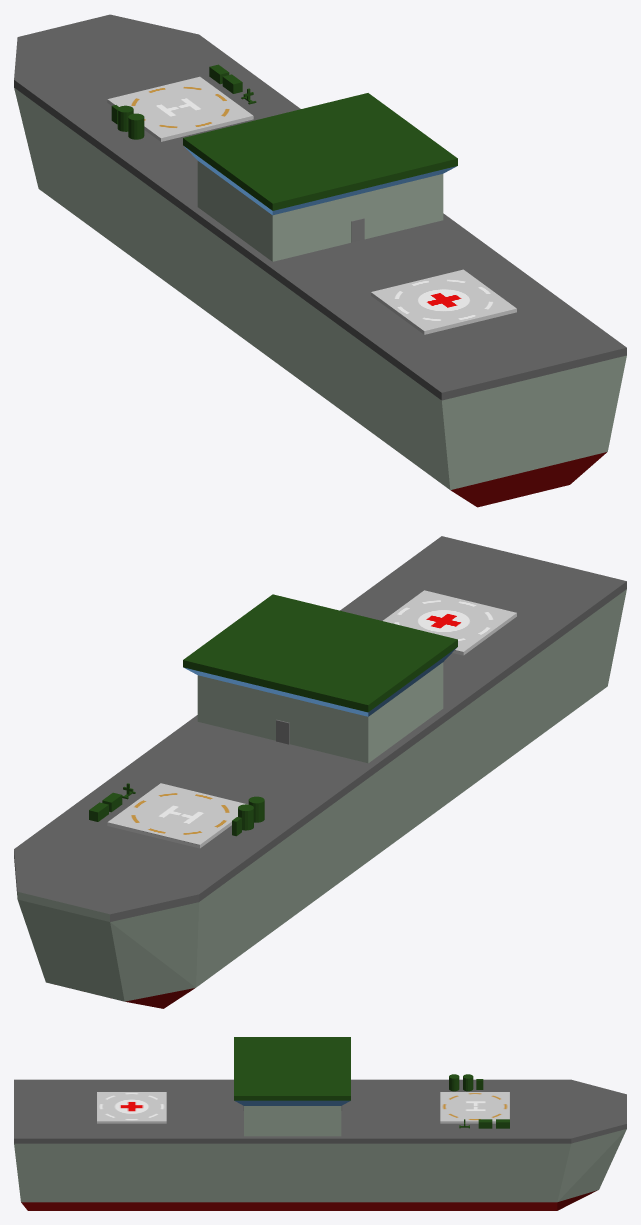
File: carrier_1.glb
3 views of the same model, one above another, from view 1: azimuth 30°, elevation 25°; view 2: azimuth 150°, elevation 25°; view 3: azimuth 270°, elevation 25° (orthographic). The views are drawn at different scales.
Visible parts, largest first — view 1: base (×3), head; view 2: base (×3), head; view 3: base (×3), head.
Part boxes in pixels (bbox=[...]): base (×3): bbox=[14, 14, 626, 507]; head: bbox=[183, 93, 457, 261]; base (×3): bbox=[14, 536, 626, 1008]; head: bbox=[183, 594, 457, 763]; base (×3): bbox=[14, 1079, 626, 1210]; head: bbox=[234, 1037, 350, 1136].
Bounding box in the file's own units: 2 × 2.05 × 8.8.
Materials: 10 (2 with a texture image).
